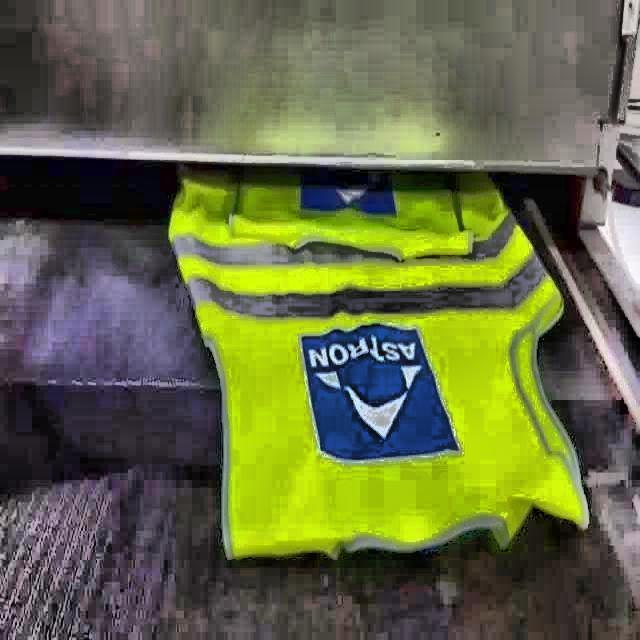safety_jacket: (166, 168, 592, 562)
